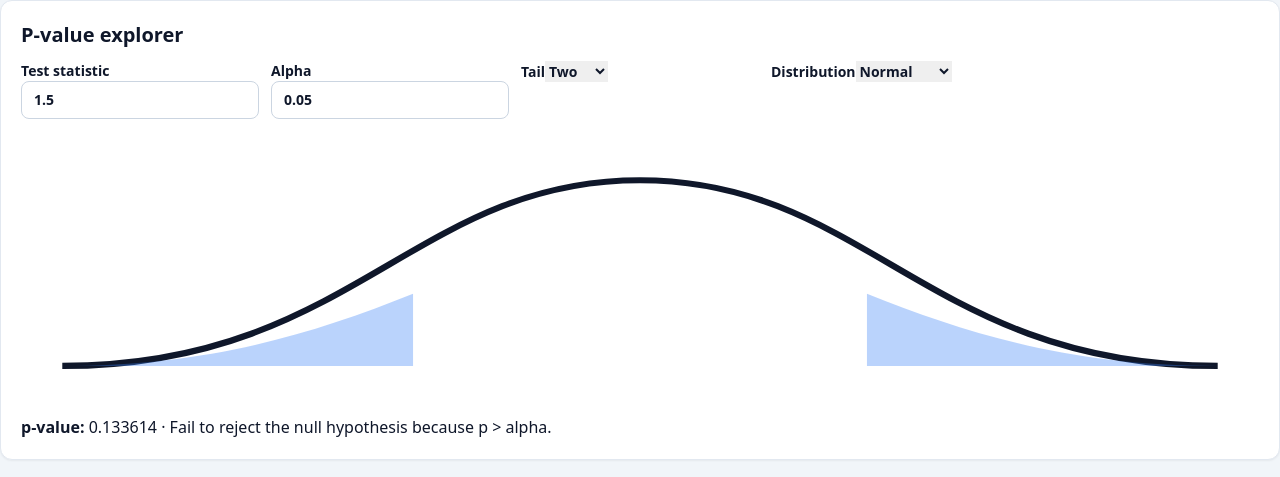
Test: v1.5 learning tools › validates degrees of freedom and renders p-value graphic
Select "Student's t" in the dropdown labelled "Distribution" at coordinates (904, 72), box x1=856 y1=61 x2=952 y2=82
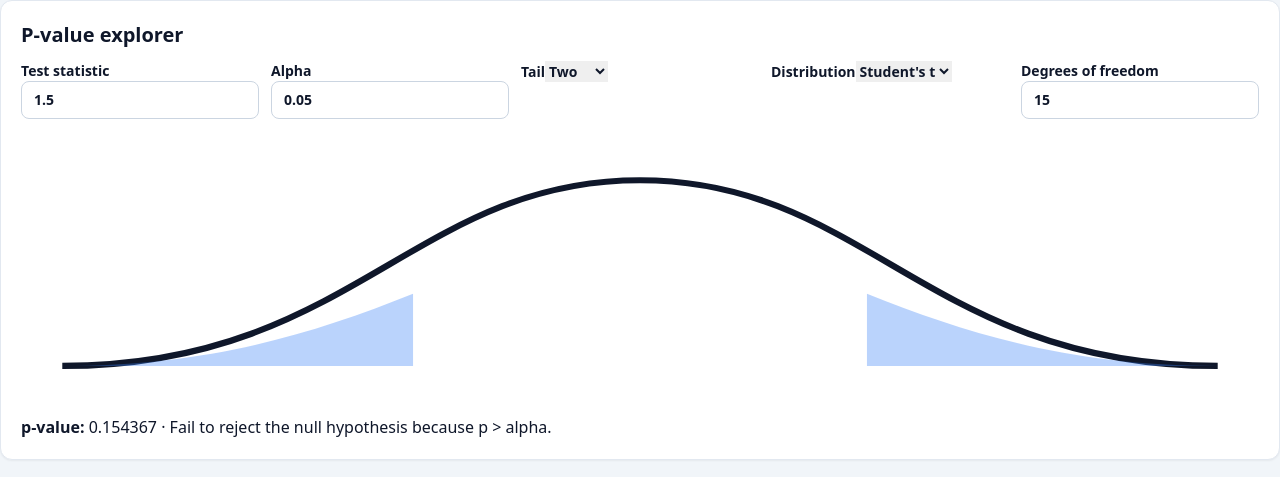
Replace the text in the number field labelled "Degrees of freedom" with "0" at coordinates (1140, 100), box x1=1021 y1=81 x2=1259 y2=119
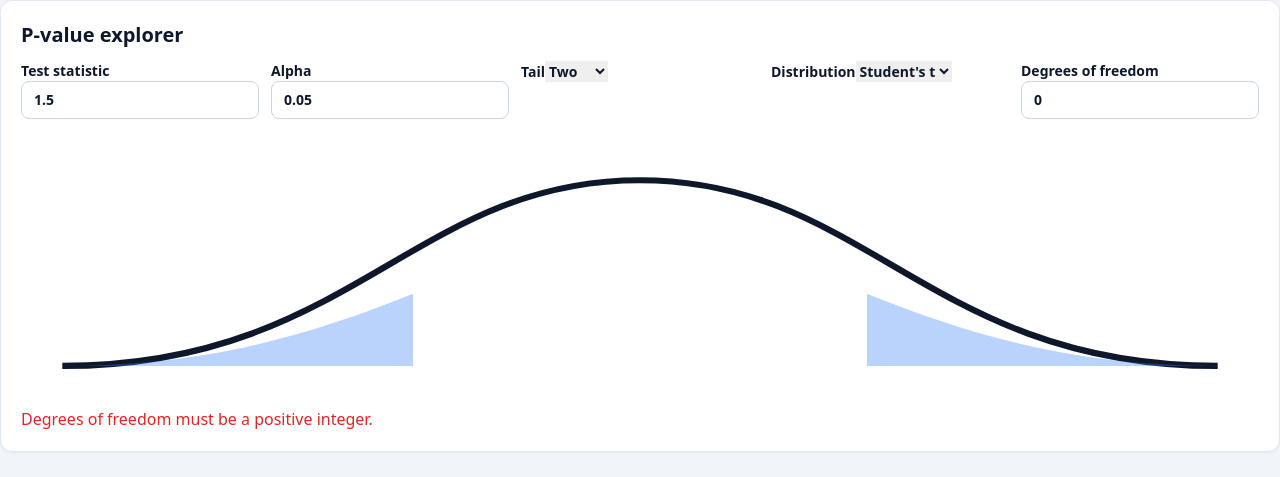
Check: the message shows "positive integer", box x1=21 y1=408 x2=373 y2=430
